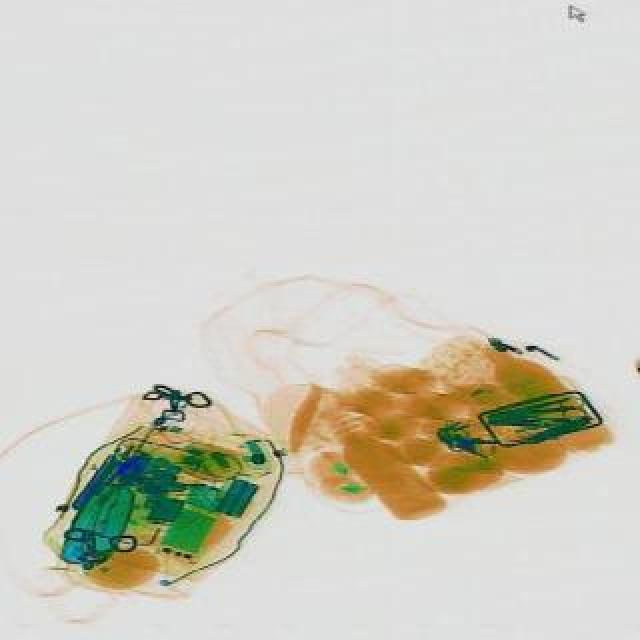pliers: (508, 390, 588, 434)
